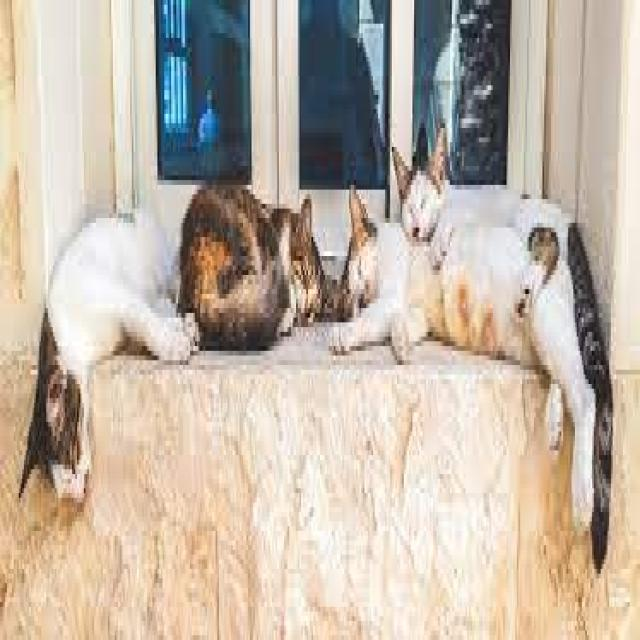cat: (393, 128, 613, 570), (332, 196, 595, 528), (20, 218, 197, 500), (179, 187, 333, 348)
